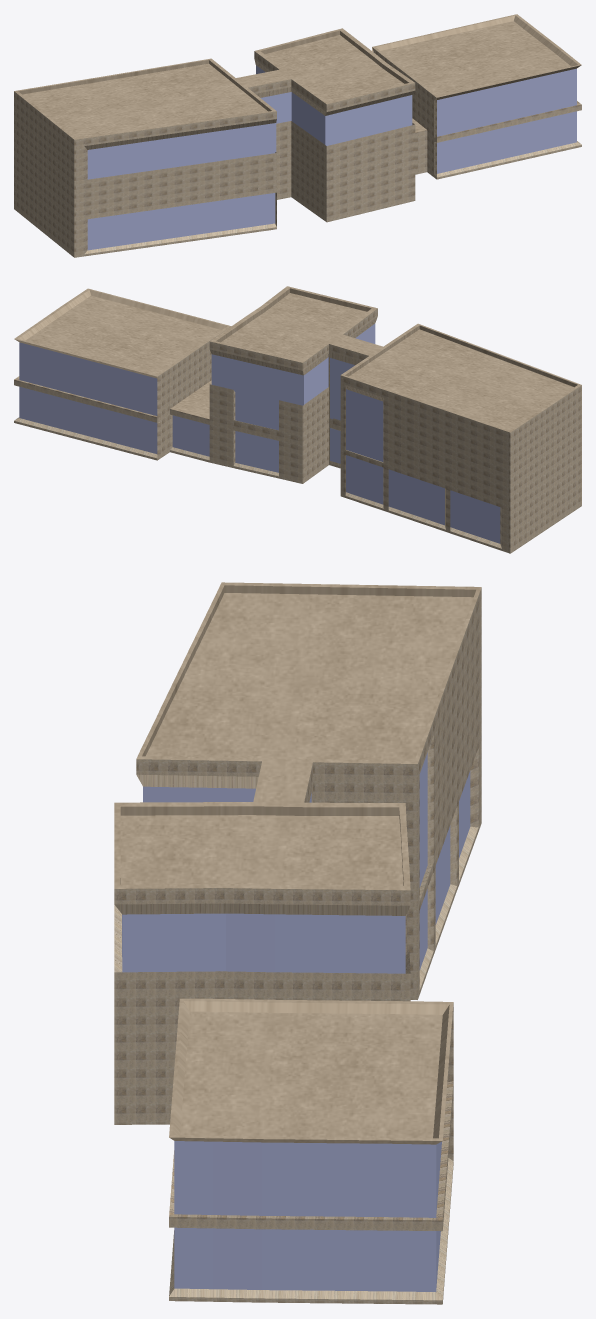
The picture shows the model from 3 angles, top to bottom: view 1: azimuth 30°, elevation 25°; view 2: azimuth 150°, elevation 25°; view 3: azimuth 270°, elevation 25°; orthographic projection. The views are drawn at different scales.
Parts seen in each view (by area): view 1: Cube.002; view 2: Cube.002; view 3: Cube.002.
Part boxes in pixels (left/top/right/bottom): Cube.002: left=14, top=14, right=581, bottom=257; Cube.002: left=14, top=286, right=581, bottom=553; Cube.002: left=114, top=582, right=481, bottom=1304.
Size of the model in its own units: 58.22 by 13.18 by 18.61.
3 materials, 2 textured.
